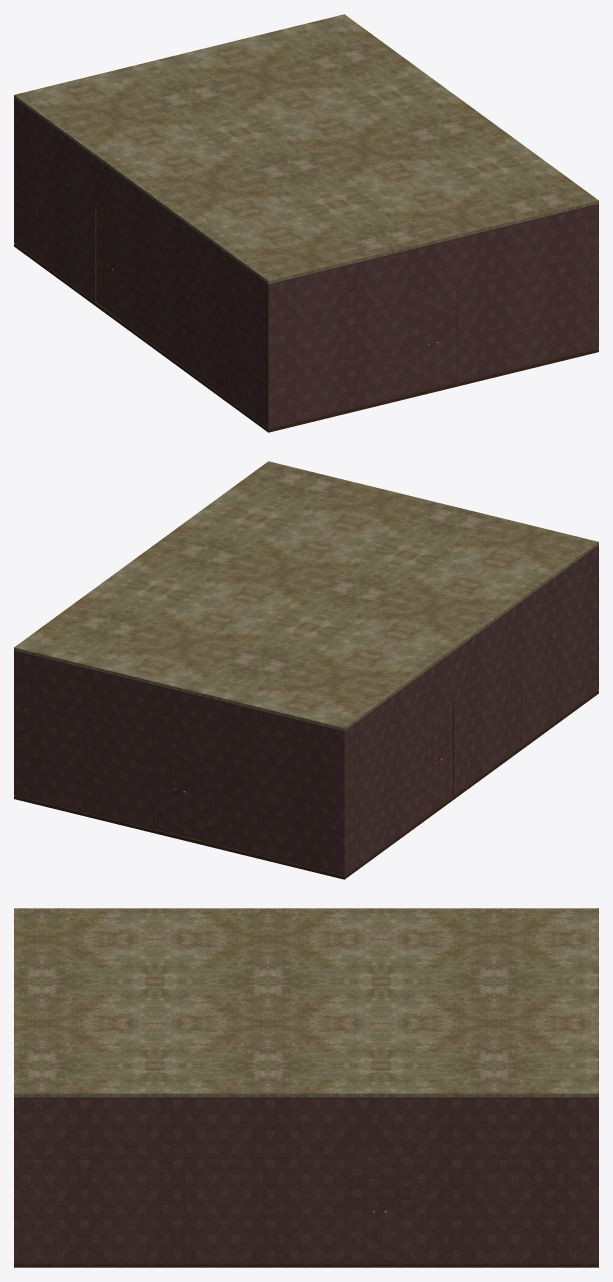
The model's file is Sala-de-Bilhar.glb.
3 renders of one model, top to bottom at view 1: azimuth 30°, elevation 25°; view 2: azimuth 150°, elevation 25°; view 3: azimuth 270°, elevation 25°, orthographic. The views are drawn at different scales.
Parts seen in each view (by area): view 1: Teto__Reboco, Parede_S__Damasco, Parede_O__Damasco, Fecho_S__Damasco, Piso__Ebanizada, Fecho_O__Damasco, Parede_L__Damasco, Parede_N__Damasco; view 2: Teto__Reboco, Parede_N__Damasco, Parede_O__Damasco, Fecho_N__Damasco, Piso__Ebanizada, Fecho_O__Damasco, Parede_L__Damasco; view 3: Teto__Reboco, Parede_L__Damasco, Fecho_L__Damasco, Piso__Ebanizada, Parede_S__Damasco, Parede_N__Damasco.
Boxes of the visible parts, box(x1,y1,x2,y2) form: Teto__Reboco: box(14, 14, 598, 284); Parede_S__Damasco: box(262, 203, 598, 428); Parede_O__Damasco: box(14, 99, 278, 428); Fecho_S__Damasco: box(409, 288, 457, 393); Piso__Ebanizada: box(14, 243, 598, 432); Fecho_O__Damasco: box(96, 209, 123, 321); Parede_L__Damasco: box(589, 204, 598, 350); Parede_N__Damasco: box(14, 98, 19, 246); Teto__Reboco: box(14, 461, 598, 731); Parede_N__Damasco: box(14, 651, 350, 875); Parede_O__Damasco: box(334, 545, 598, 875); Fecho_N__Damasco: box(155, 735, 203, 840); Piso__Ebanizada: box(14, 690, 598, 879); Fecho_O__Damasco: box(426, 702, 452, 814); Parede_L__Damasco: box(14, 650, 23, 797); Teto__Reboco: box(14, 908, 598, 1097); Parede_L__Damasco: box(14, 1097, 598, 1263); Fecho_L__Damasco: box(347, 1155, 411, 1262); Piso__Ebanizada: box(14, 1263, 598, 1267); Parede_S__Damasco: box(14, 1097, 27, 1262); Parede_N__Damasco: box(585, 1097, 598, 1263).
Size of the model in its own units: 33 by 14.46 by 44.
24 materials, 24 textured.
